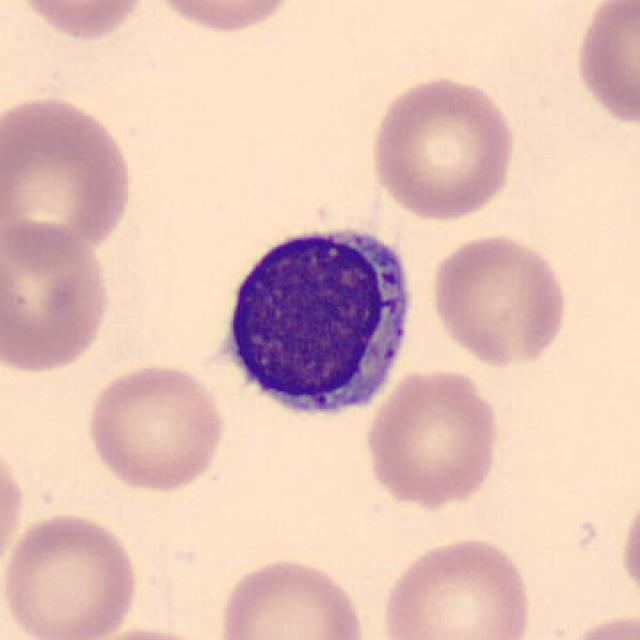Lymphocyte: (203, 212, 423, 428)
RBC: (0, 90, 139, 268), (366, 71, 519, 222), (361, 365, 503, 511), (427, 229, 572, 370), (81, 360, 228, 496), (0, 508, 142, 640), (0, 217, 114, 377), (375, 532, 537, 640), (213, 553, 369, 640), (571, 0, 638, 132), (7, 0, 155, 44), (144, 0, 304, 37), (0, 433, 28, 580), (615, 481, 640, 612), (553, 608, 640, 640), (76, 624, 228, 640)
